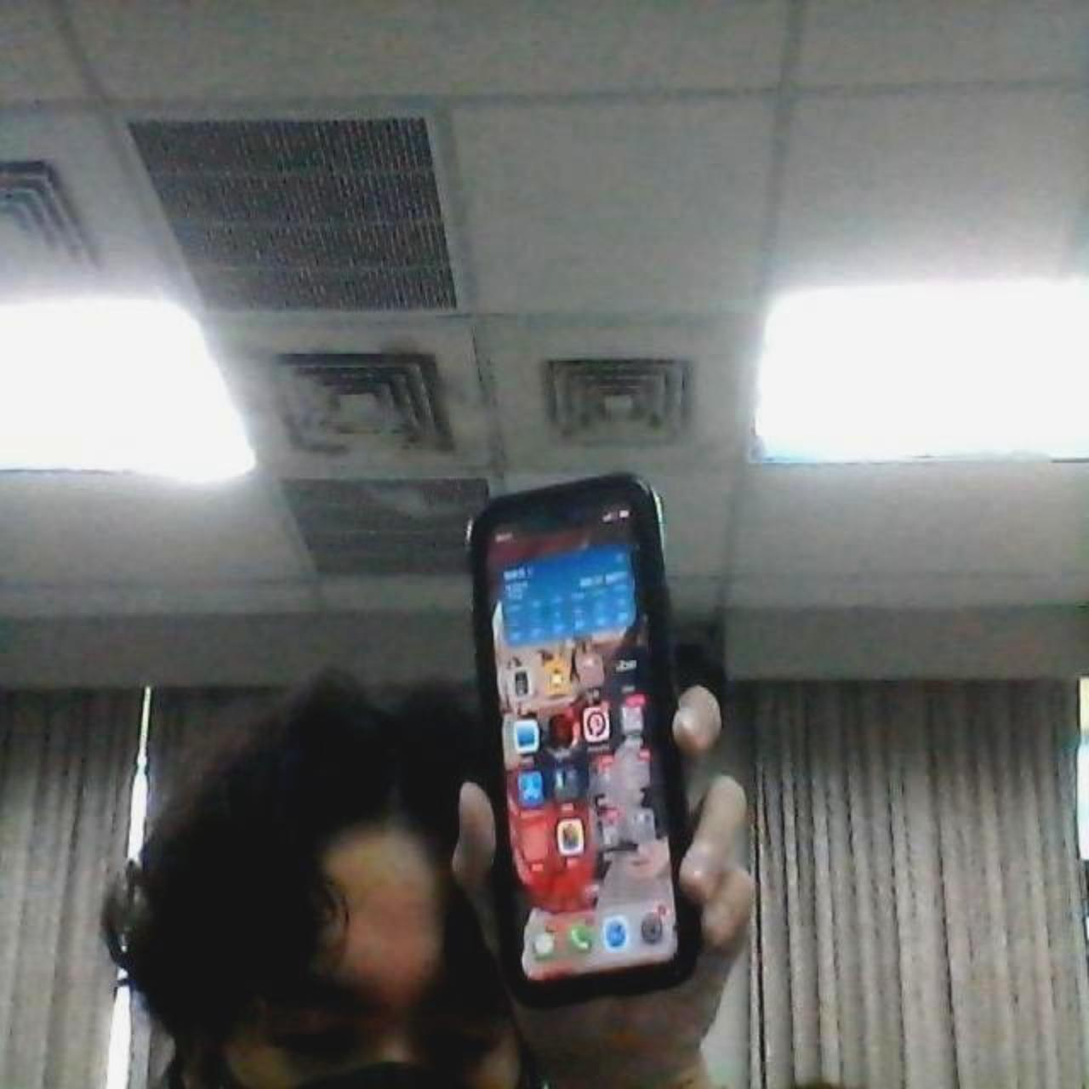phone: (465, 464, 697, 1001)
